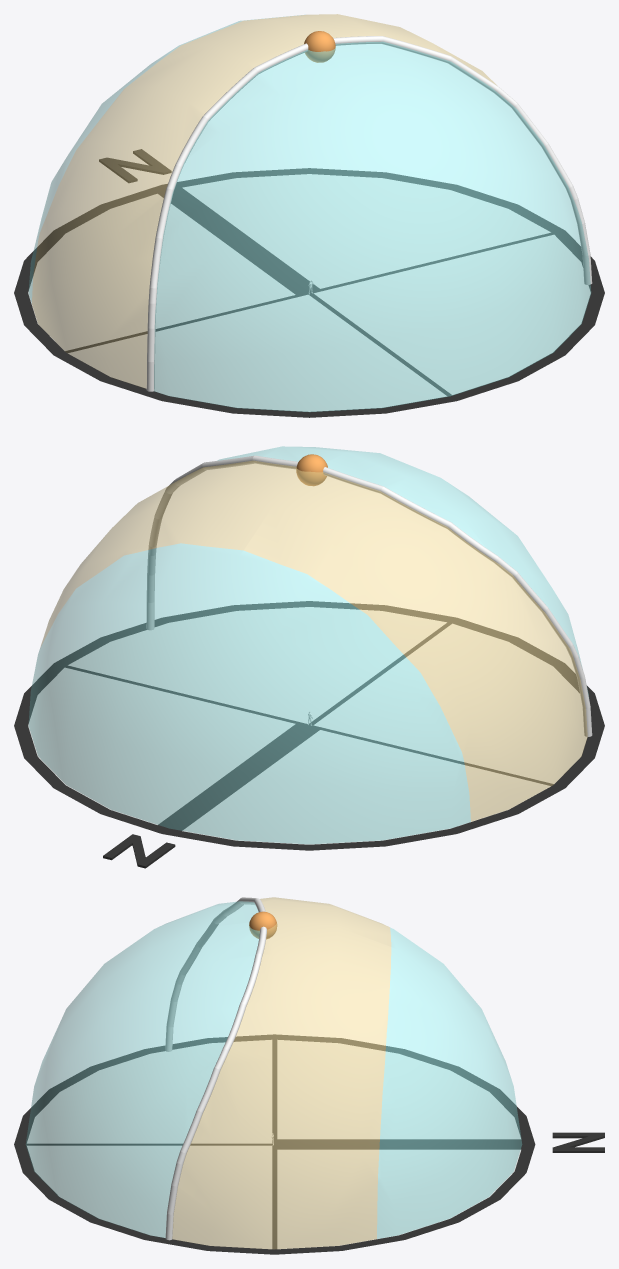
File: solverao.glb
3 renders of one model, top to bottom at view 1: azimuth 30°, elevation 25°; view 2: azimuth 150°, elevation 25°; view 3: azimuth 270°, elevation 25°, orthographic. The views are drawn at different scales.
Parts seen in each view (by area): view 1: object 6, object 5, object 7, N, object 4; view 2: object 6, object 5, object 7, N, object 4; view 3: object 6, object 5, object 7, N, object 4.
Part boxes in pixels (x1,y1,x2,y2): object 6: (28,14,591,411); object 5: (14,168,604,417); object 7: (146,36,592,391); N: (99,149,171,182); object 4: (304,31,335,62); object 6: (28,446,589,844); object 5: (14,601,604,850); object 7: (146,455,592,736); N: (103,834,175,868); object 4: (296,454,327,486); object 6: (25,897,522,1249); object 5: (14,1034,535,1254); object 7: (165,897,266,1240); N: (552,1132,604,1152); object 4: (249,911,277,939).
Size of the model in its own units: 1.47 by 0.7263 by 1.67.
